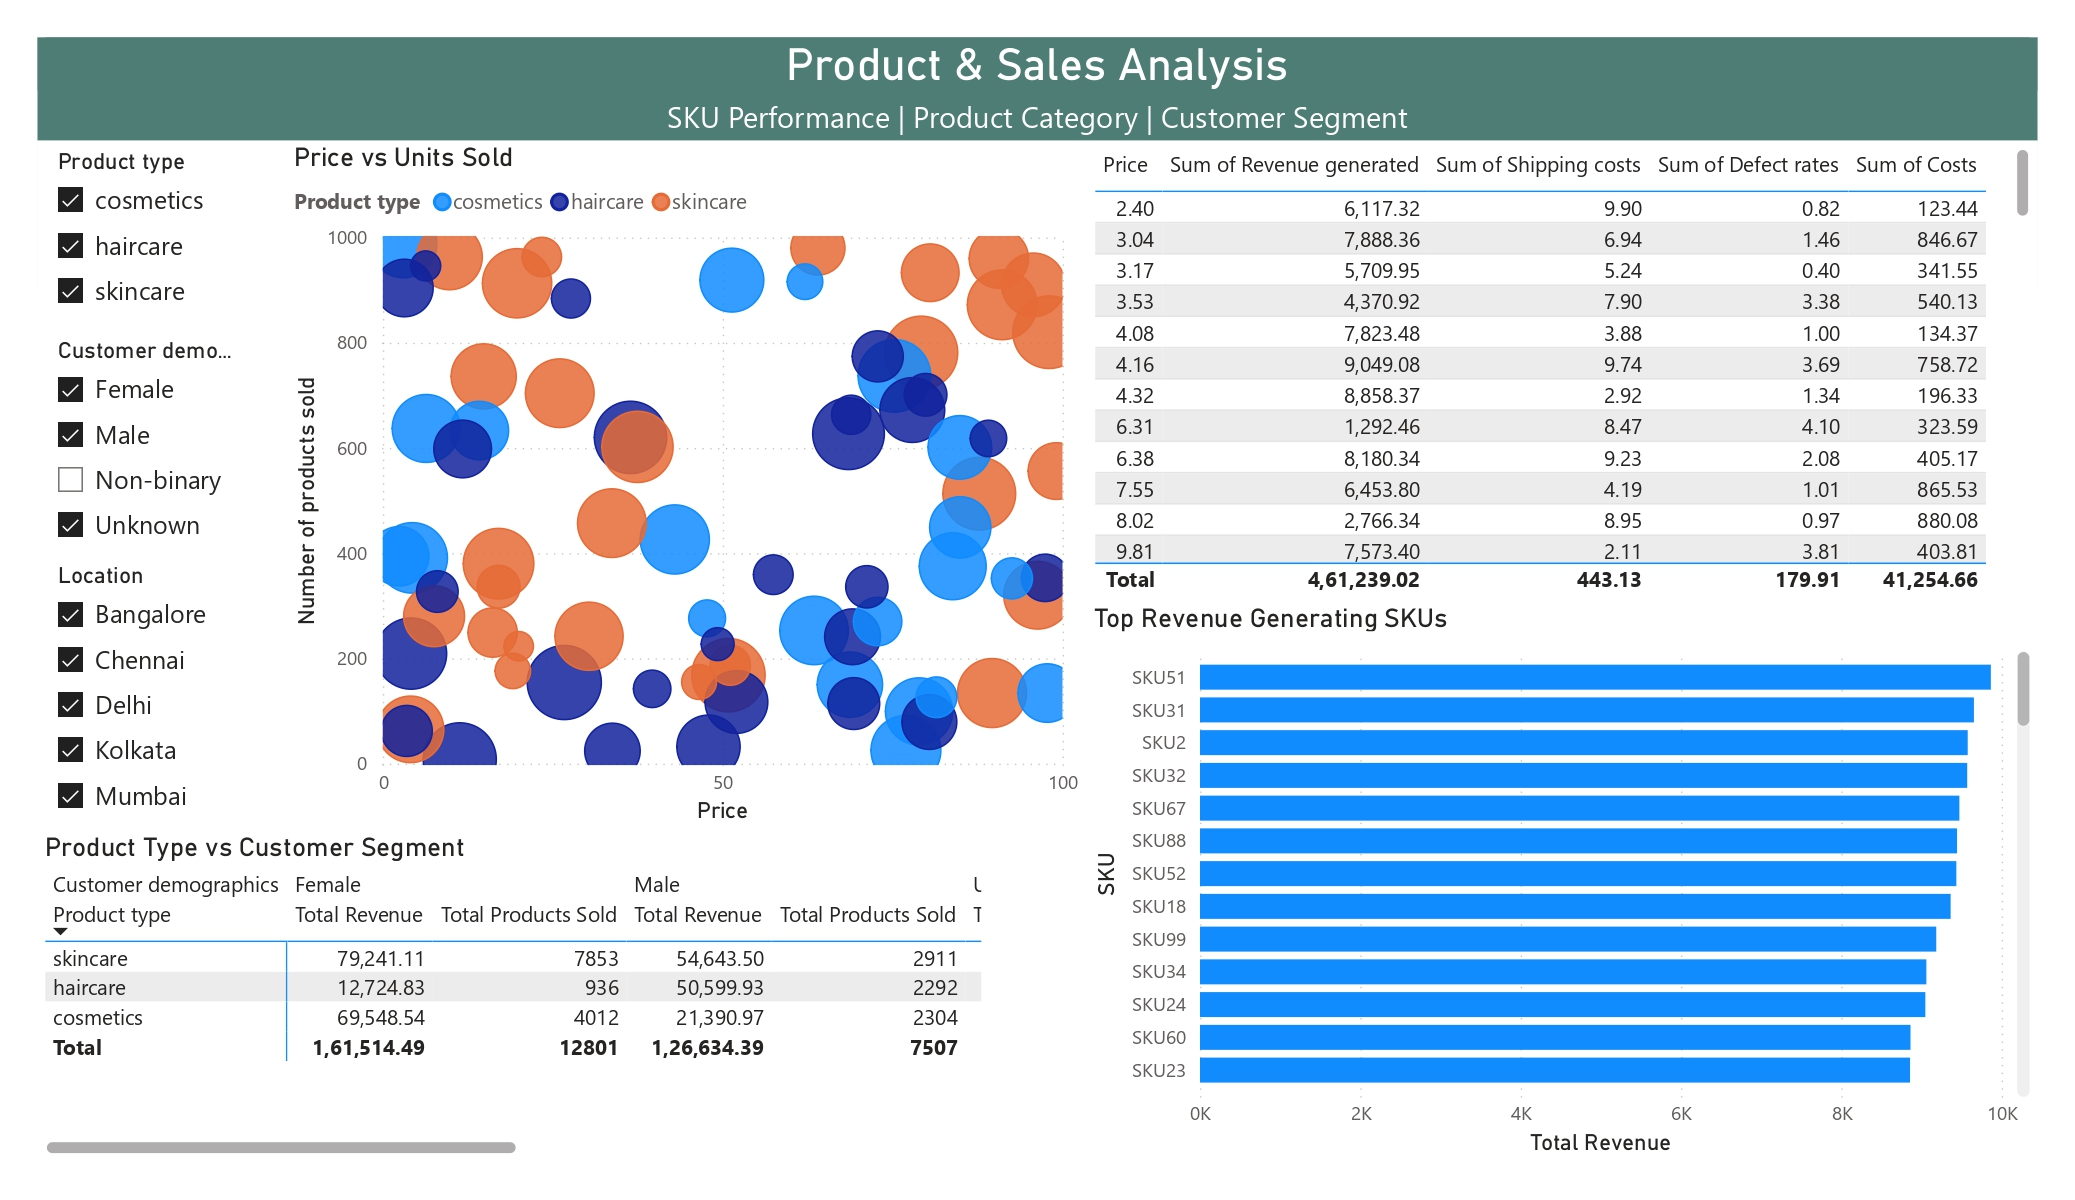

This screenshot's page, from the dashboard's own definition file:
{"tool":"powerbi","page":{"name":"Product & Sales Analysis","canvas":[1280,720],"ordinal":1},"visuals":[{"type":"textbox","title":"Product & Sales Analysis","box":[0,0,1280,66],"z":0},{"type":"clusteredBarChart","title":"Top Revenue Generating SKUs","fields":{"Category":["supply_chain_data.SKU"],"Y":["supply_chain_data.Total Revenue"]},"box":[671.2,360.5,608.8,359.4],"z":1000},{"type":"scatterChart","title":"Price vs Units Sold","fields":{"X":["supply_chain_data.Price"],"Y":["supply_chain_data.Number of products sold"],"Size":["Sum(supply_chain_data.Revenue generated)"],"Series":["supply_chain_data.Product type"]},"box":[158.7,65.8,512.5,442.2],"z":2000},{"type":"tableEx","fields":{"Values":["supply_chain_data.Price","Sum(supply_chain_data.Revenue generated)","Sum(supply_chain_data.Shipping costs)","Sum(supply_chain_data.Defect rates)","Sum(supply_chain_data.Costs)"]},"box":[671.2,65.8,608.8,294.8],"z":3000},{"type":"slicer","fields":{"Values":["supply_chain_data.Customer demographics"]},"box":[0,187.1,150.8,144],"z":4000},{"type":"slicer","fields":{"Values":["supply_chain_data.Product type"]},"box":[0,65.8,158.7,121.3],"z":5000},{"type":"slicer","fields":{"Values":["supply_chain_data.Location"]},"box":[0,331.1,158.7,176.9],"z":6000},{"type":"pivotTable","title":"Product Type vs Customer Segment","fields":{"Rows":["supply_chain_data.Product type"],"Columns":["supply_chain_data.Customer demographics"],"Values":["supply_chain_data.Total Revenue","supply_chain_data.Total Products Sold"]},"box":[0,507.9,608.8,212],"z":7000}]}

Visuals, with their boxes on the page's 1280x720 design canvas (x1, y1, x2, y2). These are canvas units, not pixel positions in the 2075x1200 screenshot, which may show the page scaled, cropped or inside an application window:
"Product & Sales Analysis" textbox: [x1=0, y1=0, x2=1280, y2=66]
"Top Revenue Generating SKUs" clusteredBarChart: [x1=671, y1=360, x2=1280, y2=720]
"Price vs Units Sold" scatterChart: [x1=159, y1=66, x2=671, y2=508]
tableEx - supply_chain_data.Price x Sum(supply_chain_data.Revenue generated): [x1=671, y1=66, x2=1280, y2=361]
slicer - supply_chain_data.Customer demographics: [x1=0, y1=187, x2=151, y2=331]
slicer - supply_chain_data.Product type: [x1=0, y1=66, x2=159, y2=187]
slicer - supply_chain_data.Location: [x1=0, y1=331, x2=159, y2=508]
"Product Type vs Customer Segment" pivotTable: [x1=0, y1=508, x2=609, y2=720]
